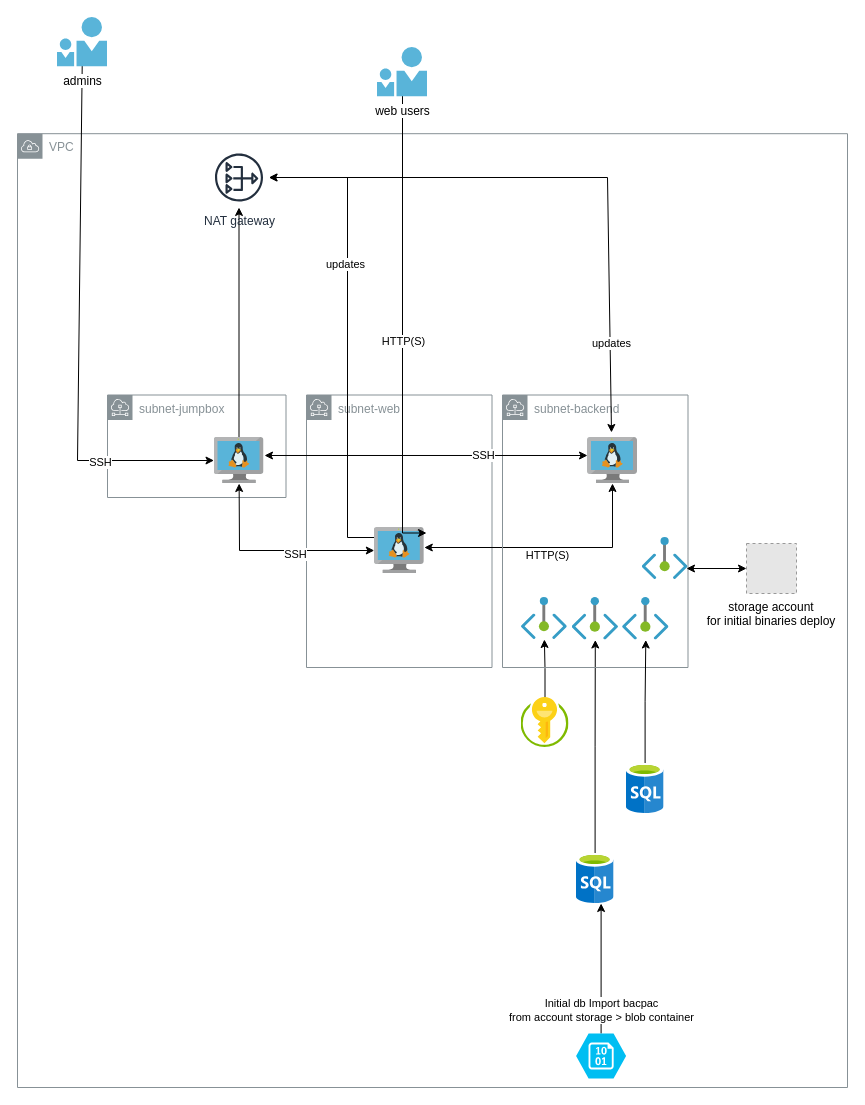
Some shapes in this 865 by 1105 pixel diagram are drawn without their labels. Grey dashed boxes stand in for pictures. Each missing label, with the centre of its shape:
Microsoft.eShopOnWeb.CatalogDb: the point at 595,878
Microsoft.eShopOnWeb.Identity: the point at 645,788
Web: the point at 399,550
WebAPI: the point at 612,460
